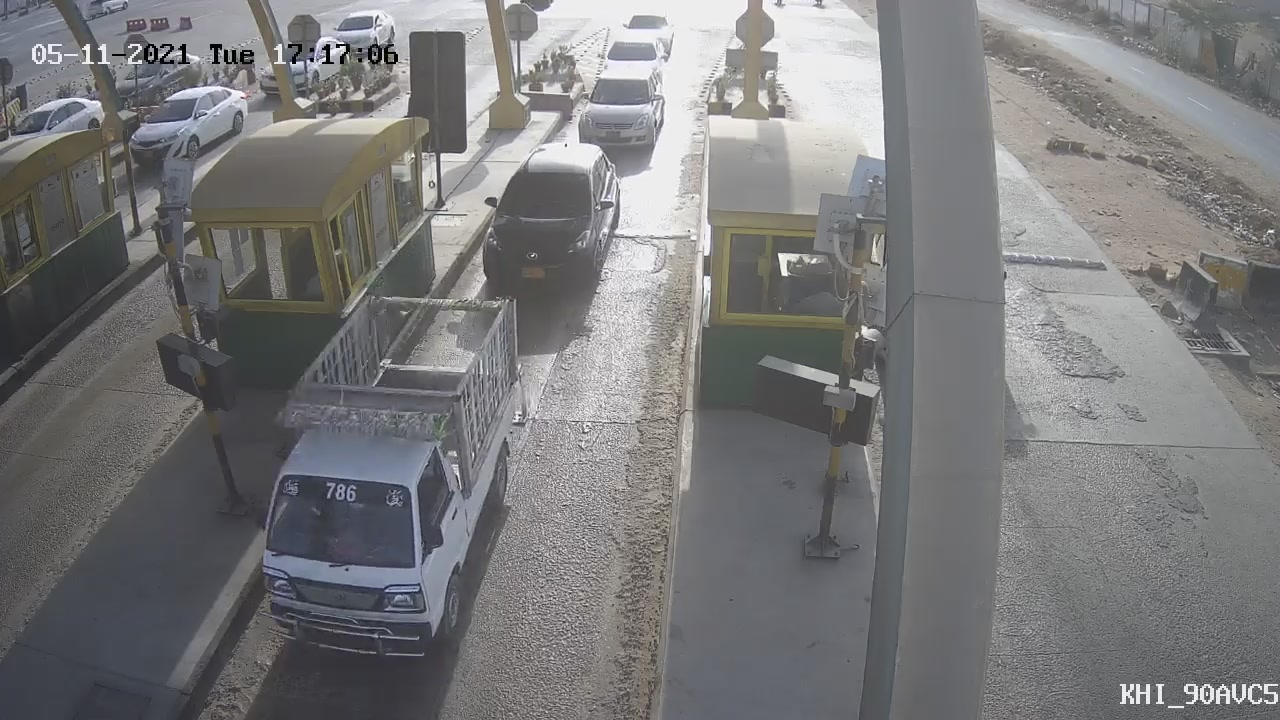F1: (460, 129, 634, 322), (564, 53, 683, 175)
